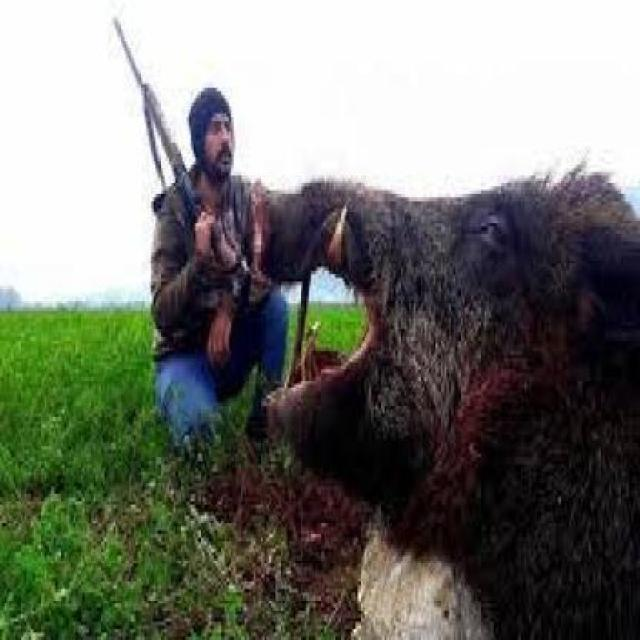wildboar: (244, 149, 640, 640)
